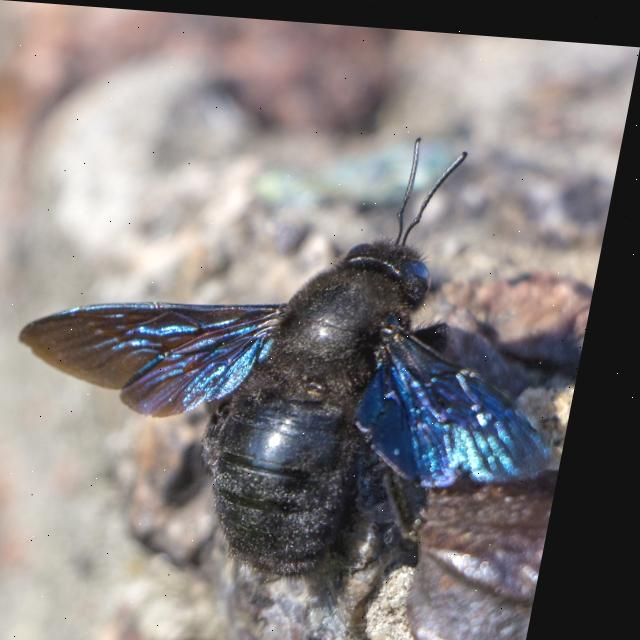Xylocopa: (0, 103, 617, 620)
